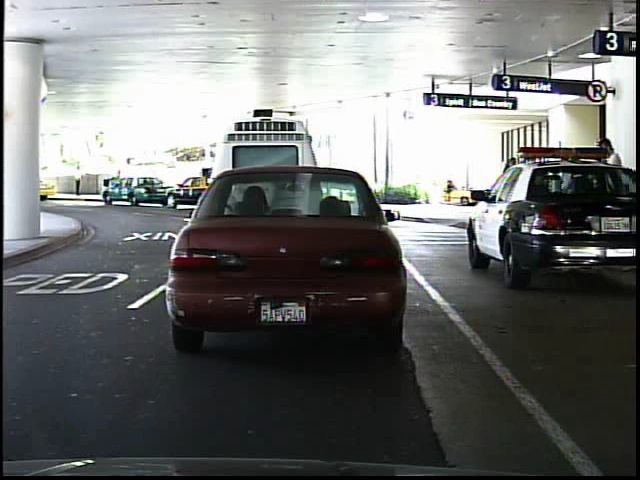person: (592, 134, 629, 255), (109, 166, 128, 202), (73, 162, 86, 197)
